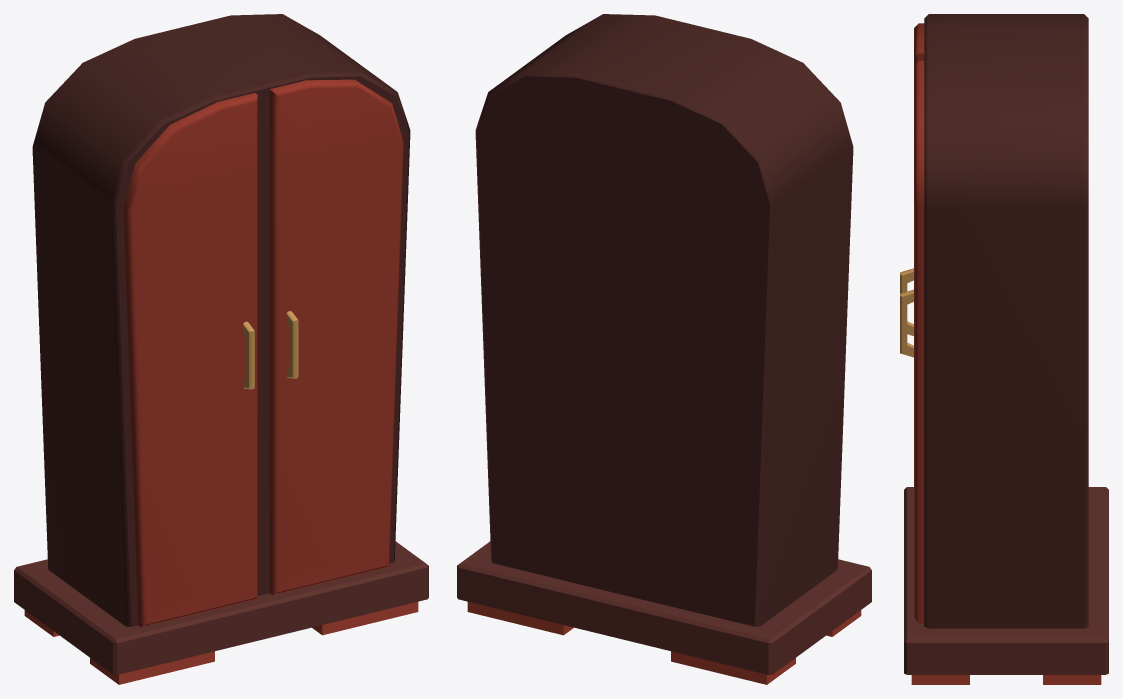
Rendered from Armadio_1.fbx.
The picture shows the model from 3 angles, left to right: view 1: azimuth 30°, elevation 25°; view 2: azimuth 150°, elevation 25°; view 3: azimuth 270°, elevation 25°; orthographic projection.
Visible parts, largest first — view 1: Armadio_1; view 2: Armadio_1; view 3: Armadio_1.
Boxes of the visible parts, x1,y1,x2,y2 form: Armadio_1: (14,14,428,684); Armadio_1: (457,14,871,684); Armadio_1: (900,14,1108,684).
Bounding box in the file's own units: 1.16 × 1.96 × 0.6635.
